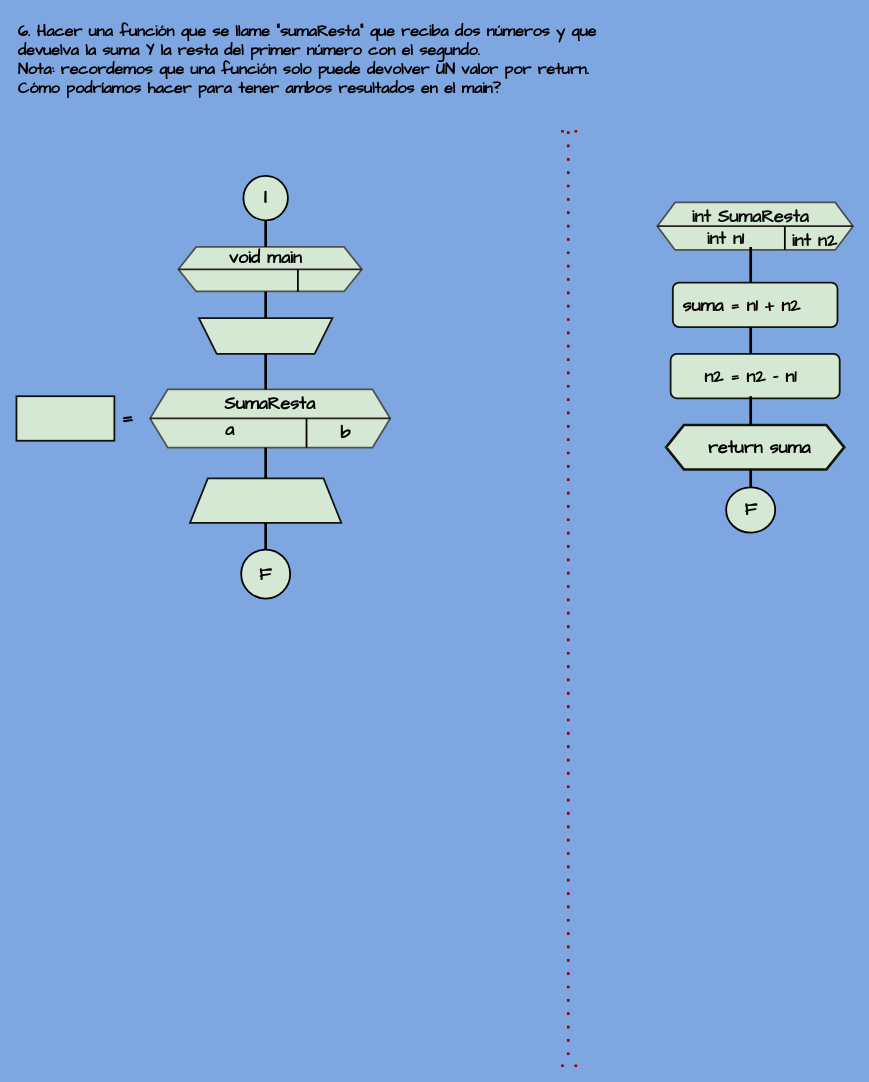
The diagram is 869 pixels wide and 1082 high, and some of its shapes have lost their labels. The shapes that lost their labels are listed below. From the top down, each one's centre as x and y in pixels, then its label:
At pixel 265 335: "a, b".
At pixel 65 418: "suma".
At pixel 265 500: "suma, b".
